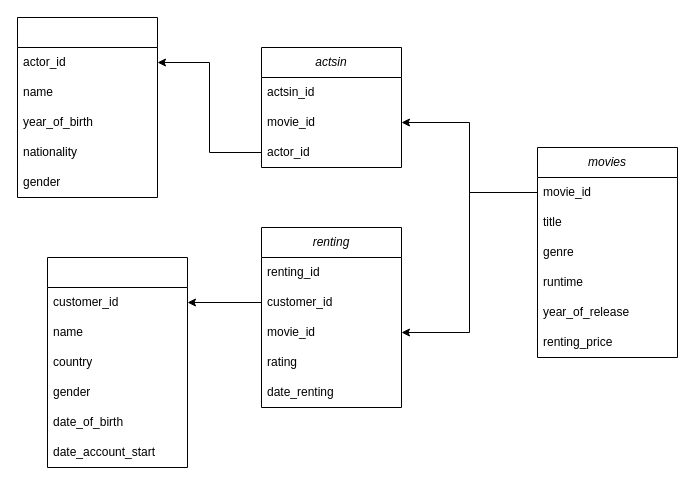
Image size: 695x485. Some labels were removed from this diagram. The shapes that lost their labels are listed below. From the top down, each one's box as (x1, y1, x2, y2) in pixels, then its label:
(16, 16, 158, 198): actors
(46, 256, 188, 468): customers
